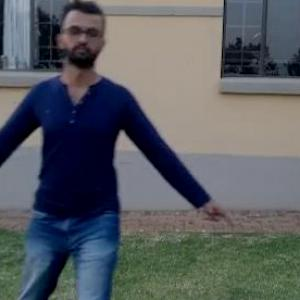land: (1, 33, 212, 299)
